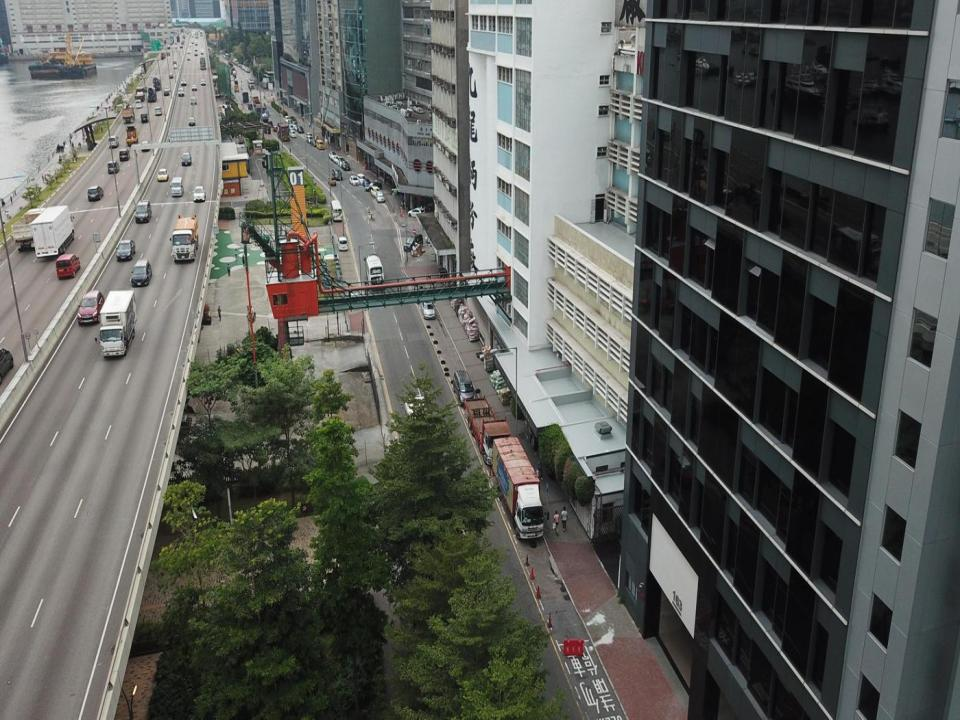bus: (363, 252, 383, 289), (330, 199, 342, 222), (199, 55, 206, 70), (246, 80, 255, 88), (234, 80, 239, 93)
car: (78, 289, 104, 325), (130, 258, 152, 287), (56, 253, 80, 278), (134, 198, 152, 223), (115, 238, 135, 260), (404, 230, 423, 252), (420, 296, 436, 321), (86, 185, 103, 201), (192, 184, 206, 203), (407, 206, 423, 219), (336, 235, 348, 251), (157, 167, 169, 182), (118, 148, 131, 161), (180, 152, 192, 166), (107, 160, 119, 174), (365, 181, 382, 190), (349, 174, 359, 188), (339, 160, 350, 171), (335, 154, 345, 166), (375, 191, 385, 203), (328, 174, 336, 188), (141, 140, 150, 152), (140, 112, 149, 124), (357, 171, 365, 184), (371, 184, 378, 197), (187, 116, 196, 126), (135, 98, 143, 109), (362, 178, 370, 188), (189, 96, 196, 106), (177, 87, 184, 97), (310, 137, 317, 147), (306, 130, 313, 140), (296, 126, 304, 134), (329, 150, 336, 159), (333, 154, 340, 162), (292, 123, 300, 130), (305, 134, 312, 142), (192, 82, 198, 90), (180, 78, 186, 86), (200, 78, 206, 86), (290, 130, 296, 138), (172, 62, 178, 69), (284, 115, 290, 122), (168, 72, 173, 80), (287, 122, 292, 130), (248, 102, 253, 110), (289, 117, 293, 123)
truck: (492, 436, 544, 540), (464, 394, 512, 466), (94, 288, 136, 360), (30, 204, 76, 259), (11, 207, 49, 252), (169, 215, 201, 260), (125, 124, 138, 146), (121, 103, 134, 124), (276, 121, 290, 140), (146, 85, 156, 103), (134, 86, 145, 101), (153, 74, 161, 91), (242, 92, 250, 103)
van: (453, 369, 474, 404), (170, 176, 184, 198), (331, 166, 342, 181), (108, 133, 118, 148), (316, 139, 324, 150), (155, 106, 162, 116)
